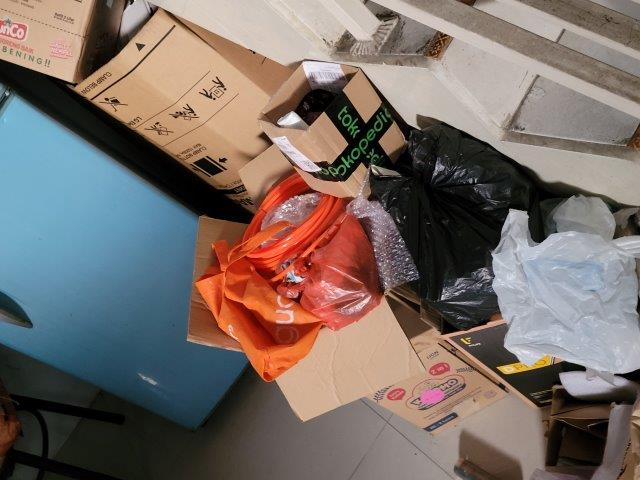kardus: (165, 196, 521, 433), (64, 11, 290, 196), (249, 50, 406, 189)
plastik: (368, 127, 537, 318), (486, 212, 640, 373)
